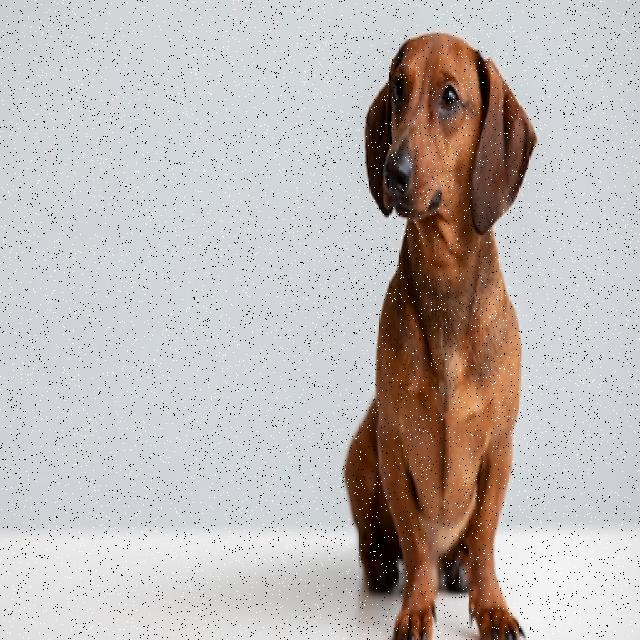Dog: (346, 31, 539, 640)
